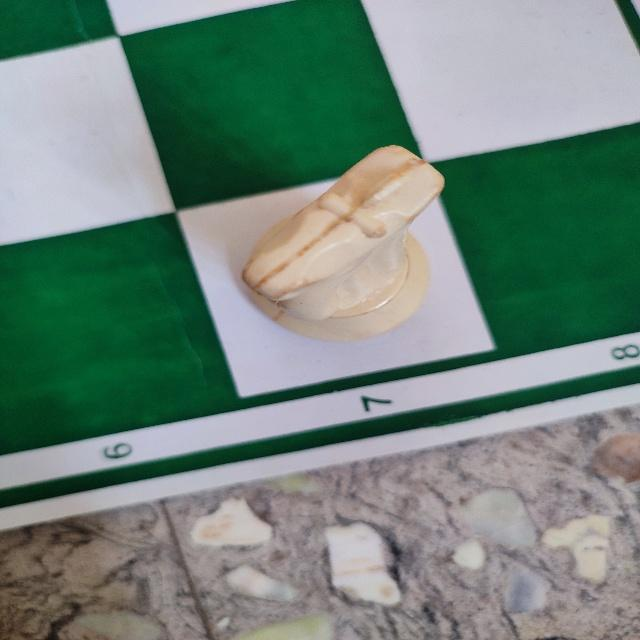Knight: (237, 140, 447, 348)
